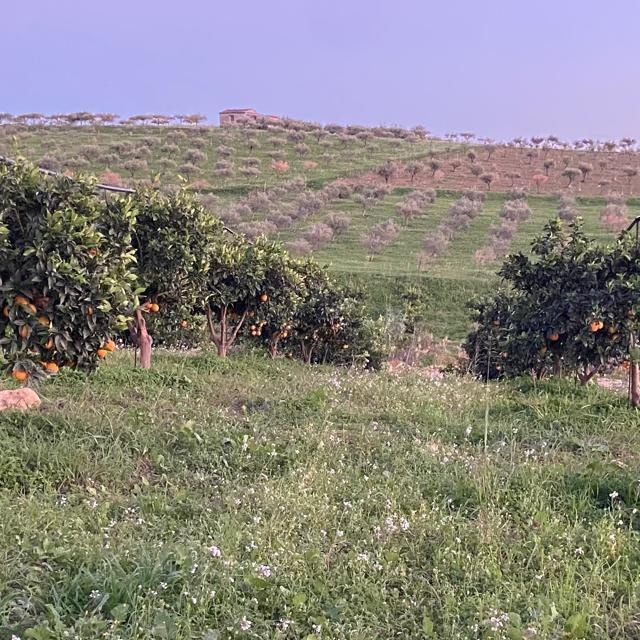orange: (588, 317, 604, 333), (43, 357, 61, 371), (623, 309, 637, 323), (547, 329, 559, 341), (37, 296, 49, 308), (42, 335, 52, 349), (37, 315, 51, 325), (16, 295, 28, 305), (20, 324, 30, 336), (14, 368, 26, 378), (84, 305, 94, 317), (27, 304, 37, 314), (106, 339, 116, 349), (540, 344, 548, 354), (611, 334, 621, 342), (609, 326, 619, 334), (4, 305, 12, 315), (623, 357, 629, 369), (97, 349, 105, 357), (501, 349, 509, 357), (90, 248, 98, 256), (493, 319, 501, 325), (261, 294, 267, 302), (495, 365, 501, 371), (152, 305, 158, 311), (249, 310, 255, 316), (283, 332, 289, 338), (32, 288, 38, 294), (182, 319, 186, 327)
